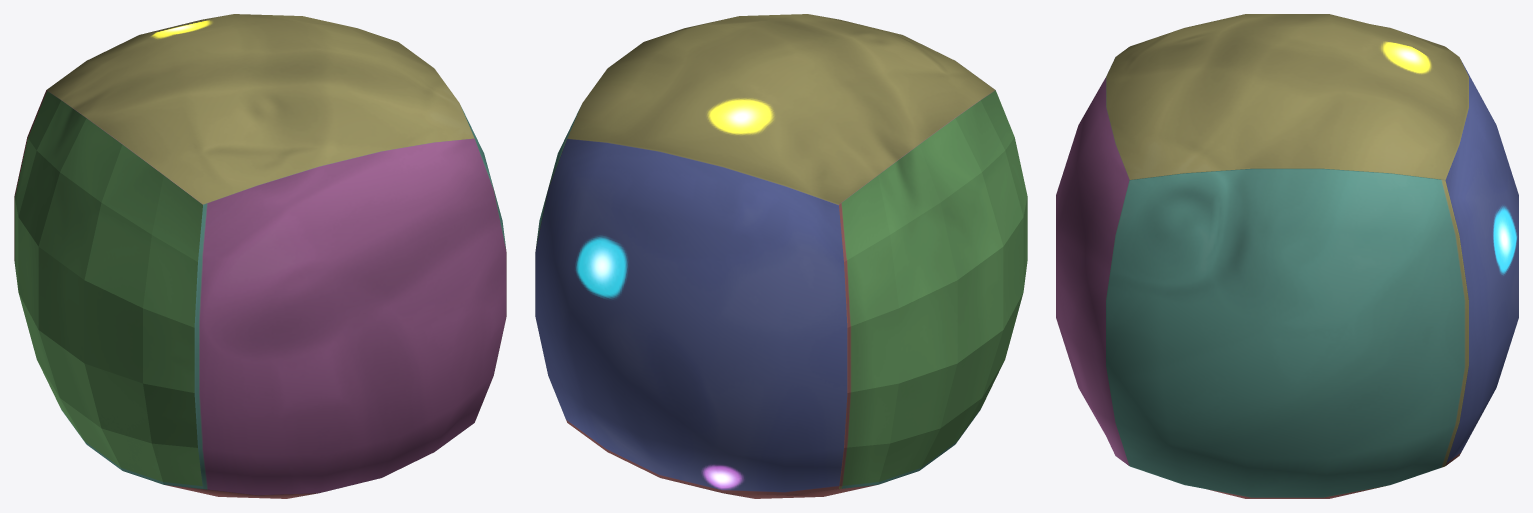
The model's file is CubeSphere.FBX.
3 renders of one model, left to right at view 1: azimuth 30°, elevation 25°; view 2: azimuth 150°, elevation 25°; view 3: azimuth 270°, elevation 25°, orthographic.
Parts seen in each view (by area): view 1: CubeSphere; view 2: CubeSphere; view 3: CubeSphere.
Boxes of the visible parts, bbox=[...] form: CubeSphere: bbox=[14, 14, 506, 498]; CubeSphere: bbox=[535, 14, 1027, 498]; CubeSphere: bbox=[1056, 14, 1518, 498].
Size of the model in its own units: 0.4849 by 0.4849 by 0.4849.
1 material, 1 textured.
